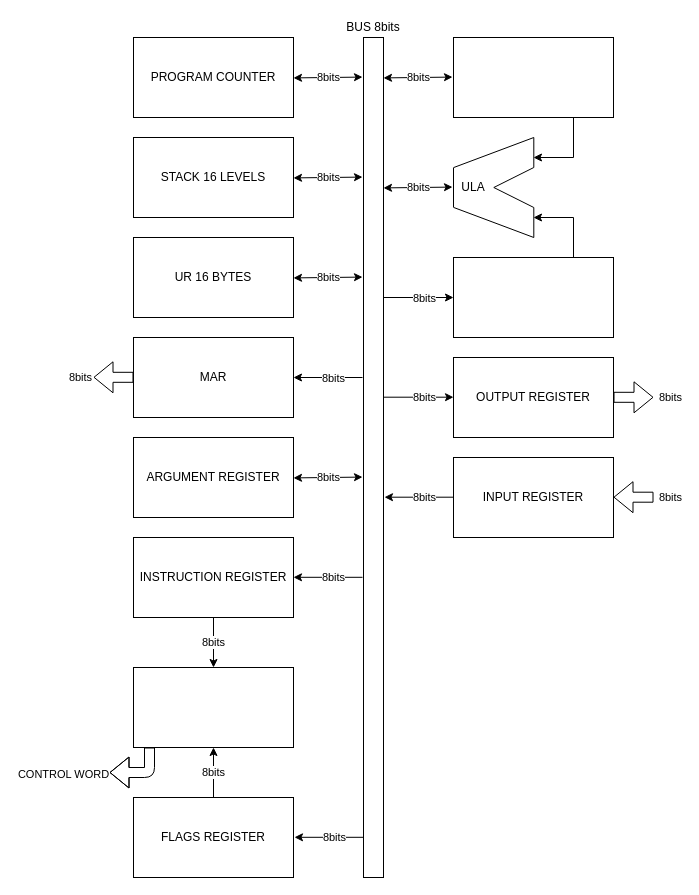
The diagram is 699 pixels wide and 895 high, and some of its shapes have lost their labels. The centre of each missing label's shape, as x and y in pixels:
ACCUMULATOR: (533,77)
B REGISTER: (533,297)
CONTROL UNITY: (213,707)
